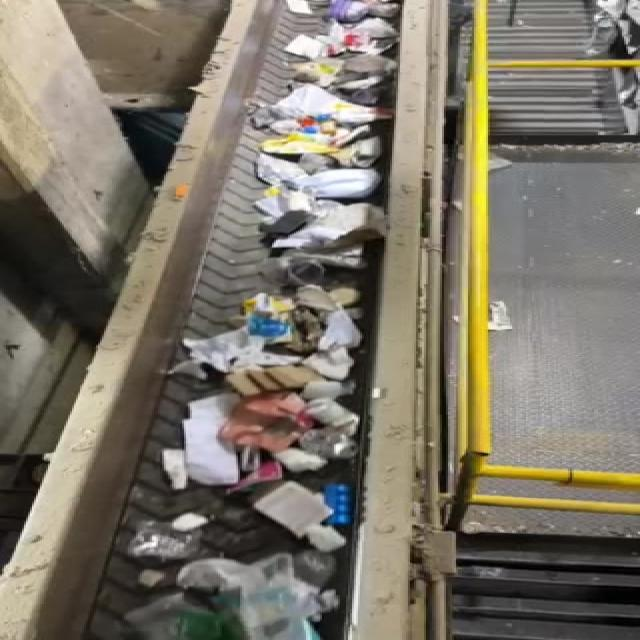paper: (147, 396, 241, 492), (252, 486, 332, 544)
pp: (233, 552, 359, 640), (220, 388, 310, 458), (130, 503, 217, 573), (138, 589, 220, 640), (310, 477, 363, 533)
